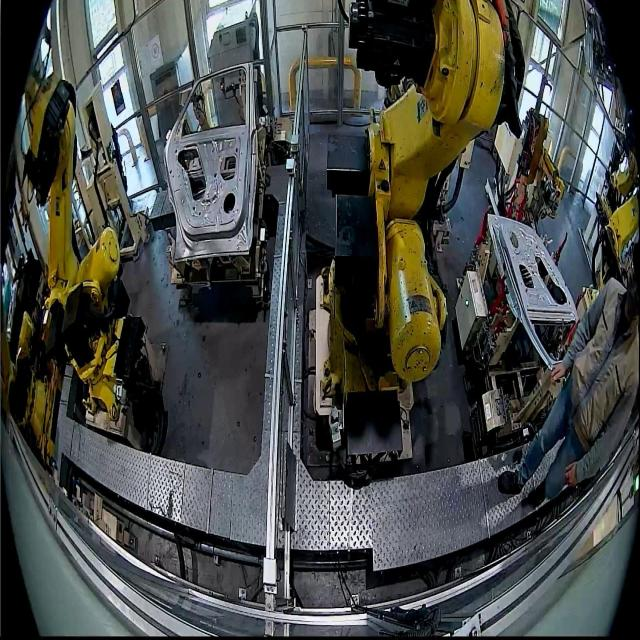Person: (497, 235, 639, 505)
